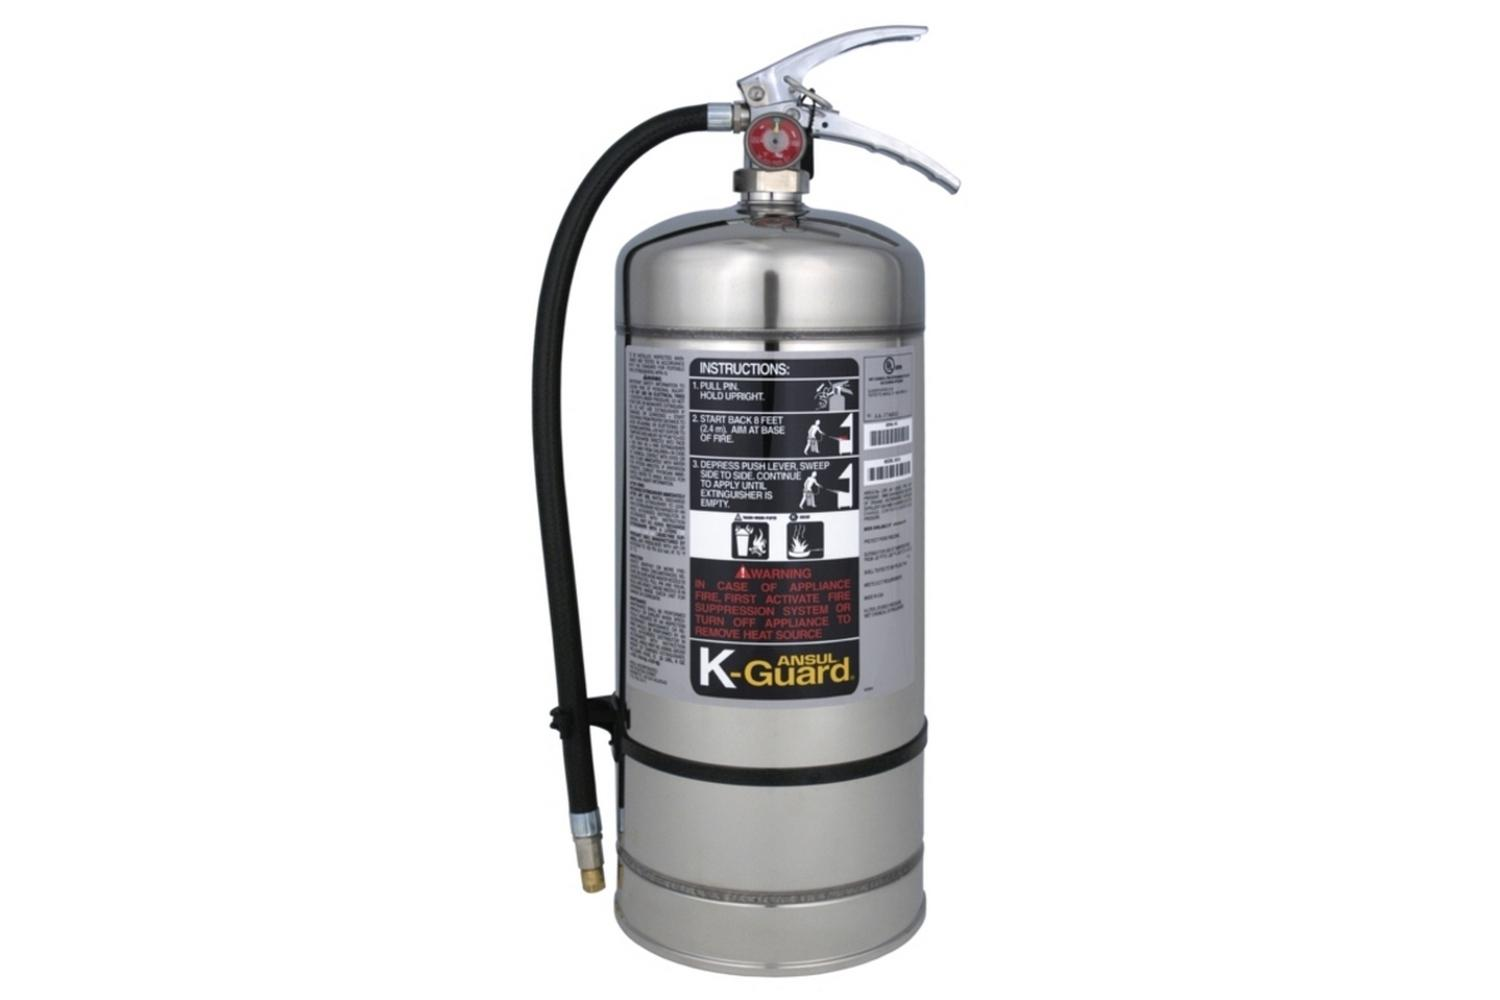Fire Extinguisher: (470, 18, 1032, 978)
